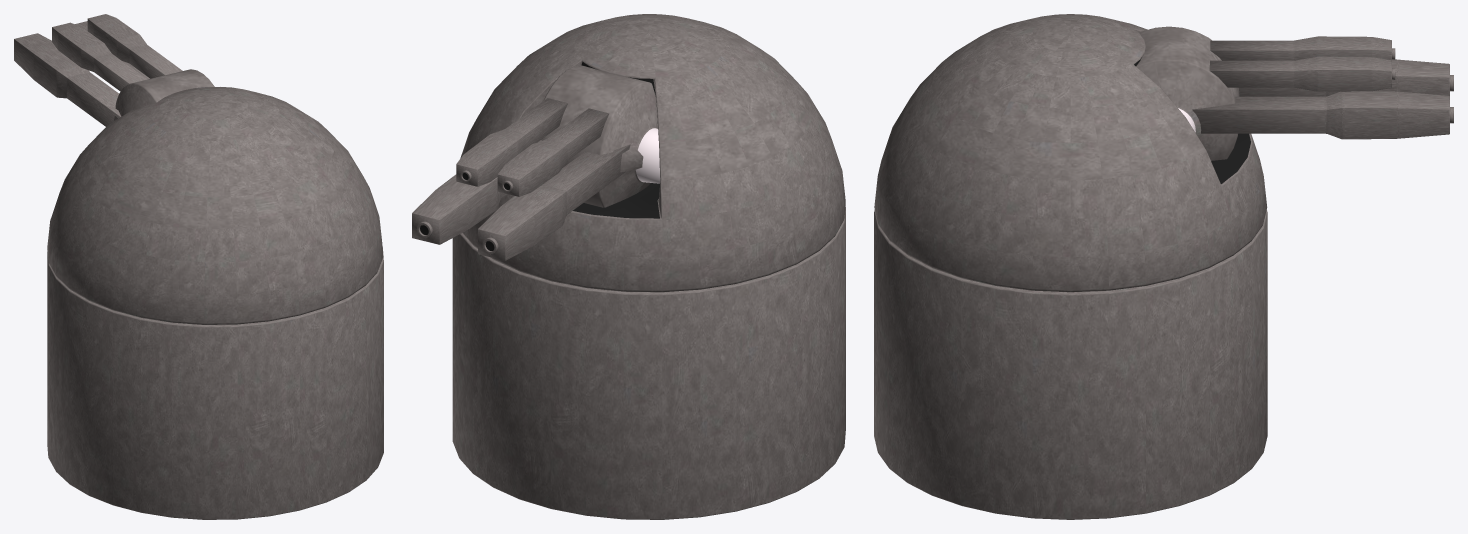
The model's file is tower.glb.
The picture shows the model from 3 angles, left to right: view 1: azimuth 30°, elevation 25°; view 2: azimuth 150°, elevation 25°; view 3: azimuth 270°, elevation 25°; orthographic projection. The views are drawn at different scales.
Parts seen in each view (by area): view 1: Body, Head, Weapon Bottom Left, Weapon Top Left, Weapon Top Right, Weapon_Hinge; view 2: Body, Head, Weapon_Hinge, Weapon Bottom Left, Weapon Top Left, Weapon Top Right, Weapon Bottom Right; view 3: Body, Head, Weapon Bottom Right, Weapon_Hinge, Weapon Top Right, Weapon Top Left, Weapon Bottom Left.
Boxes of the visible parts, x1,y1,x2,y2 form: Body: (47, 247, 383, 519); Head: (47, 87, 383, 324); Weapon Bottom Left: (14, 33, 121, 126); Weapon Top Left: (52, 22, 146, 91); Weapon Top Right: (87, 14, 182, 78); Weapon_Hinge: (114, 69, 214, 120); Body: (452, 206, 845, 519); Head: (460, 14, 845, 292); Weapon_Hinge: (541, 65, 660, 207); Weapon Bottom Left: (478, 144, 630, 260); Weapon Top Left: (497, 108, 609, 196); Weapon Top Right: (456, 98, 567, 186); Weapon Bottom Right: (412, 140, 541, 244); Body: (874, 209, 1267, 519); Head: (874, 14, 1267, 292); Weapon Bottom Right: (1192, 91, 1449, 139); Weapon_Hinge: (1136, 26, 1239, 160); Weapon Top Right: (1209, 56, 1391, 91); Weapon Top Left: (1210, 36, 1391, 60); Weapon Bottom Left: (1239, 59, 1449, 96).
Size of the model in its own units: 2 by 2.27 by 2.95.
Materials: 3 (1 with a texture image).
